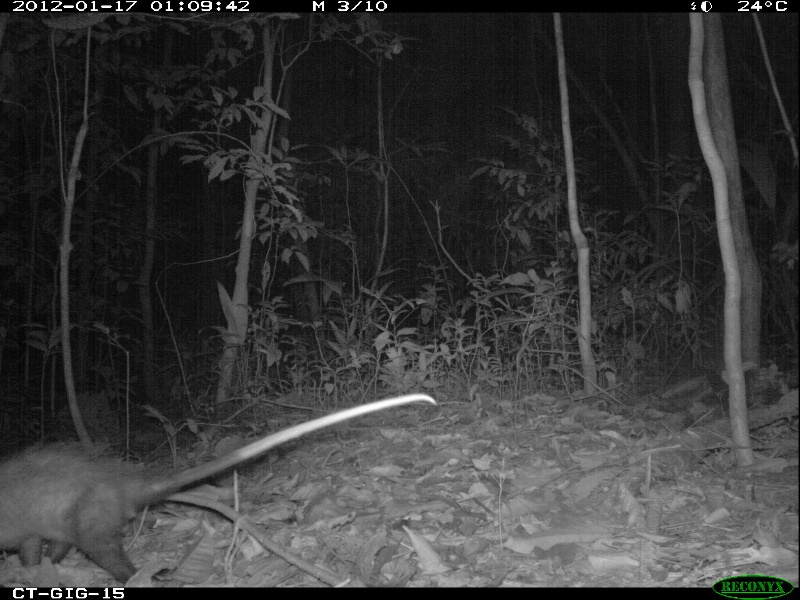opossum: (1, 380, 441, 580)
